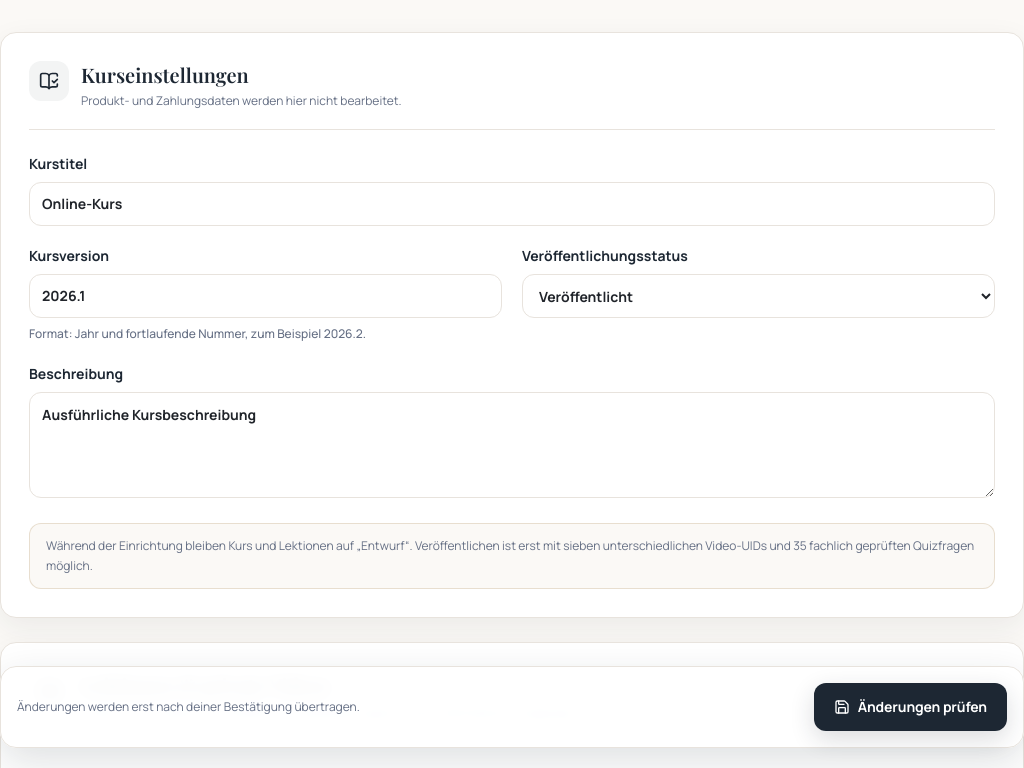
Admin-Kursverwaltung › verhindert die Veröffentlichung einer Lektion ohne Video-UID vor dem Request
expect the heading "Kurseinstellungen" is shown: met, box x1=81 y1=61 x2=249 y2=88
Click the button "Änderungen prüfen" at (910, 707), box x1=814 y1=683 x2=1007 y2=731
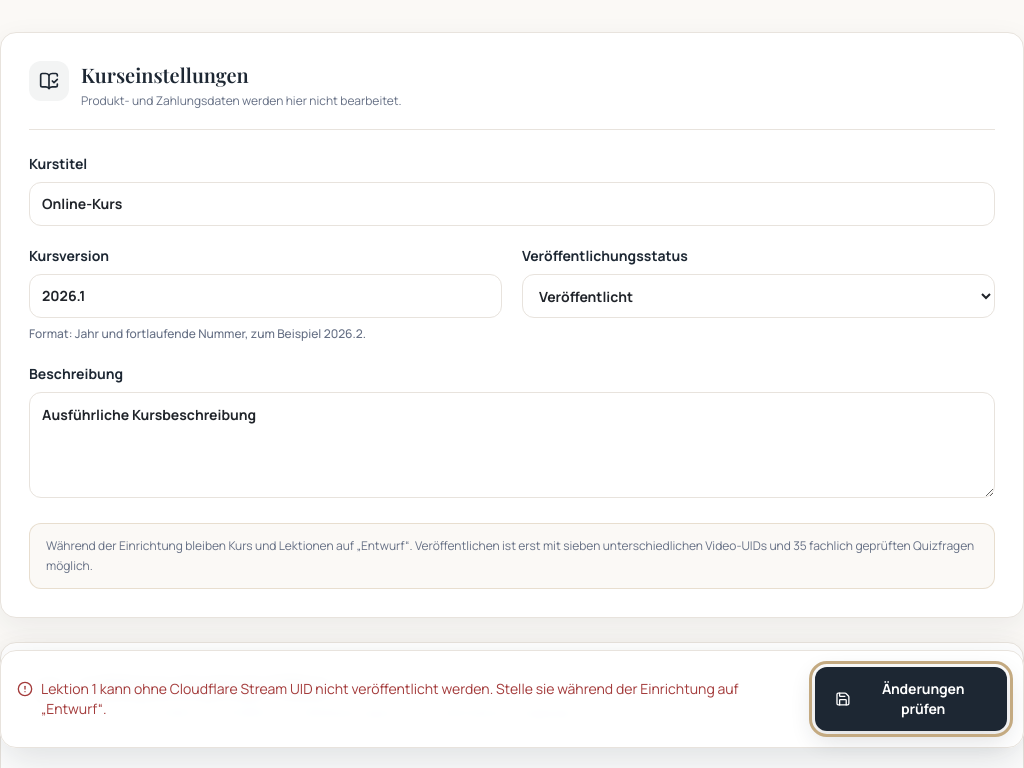
expect the text "Lektion 1 kann ohne Cloudflare Stream UID nicht veröffentlicht werden" is shown: met, box x1=41 y1=679 x2=739 y2=718
